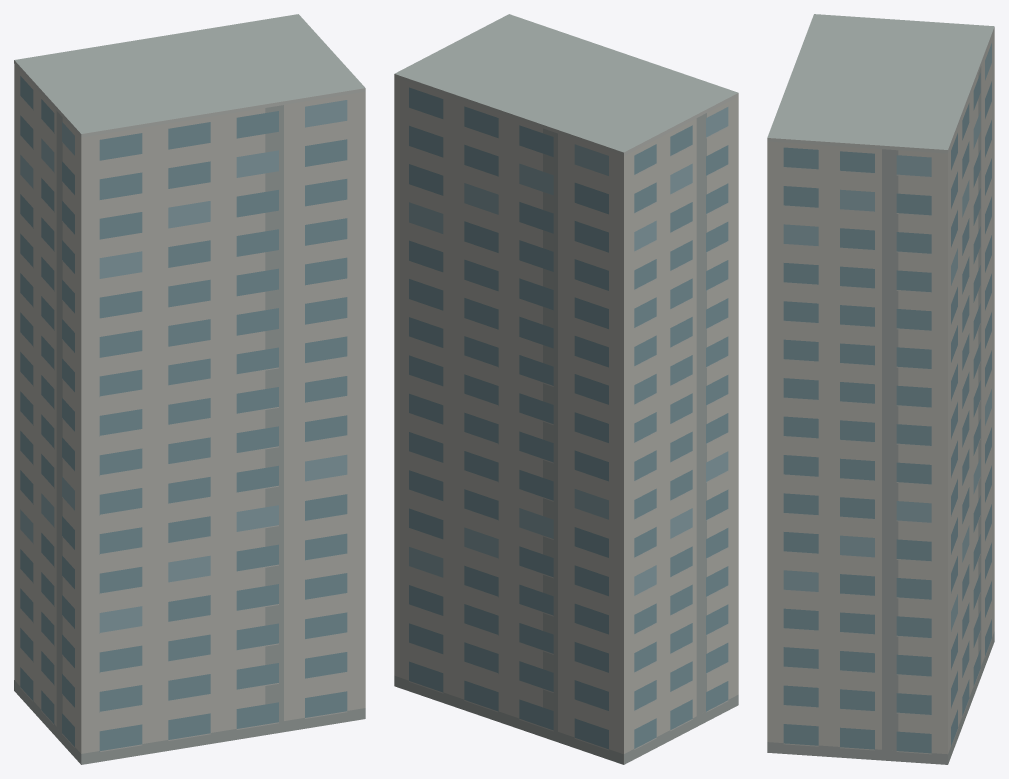
Rendered from residential-116caecb-978e-4a96-8e06-892d996d72b1.glb.
3 views of the same model, side by side, from view 1: azimuth 30°, elevation 25°; view 2: azimuth 150°, elevation 25°; view 3: azimuth 270°, elevation 25° (orthographic). The views are drawn at different scales.
Parts seen in each view (by area): view 1: residential-116caecb-978e-4a96-8e06-892d996d72b1.tmp; view 2: residential-116caecb-978e-4a96-8e06-892d996d72b1.tmp; view 3: residential-116caecb-978e-4a96-8e06-892d996d72b1.tmp.
Boxes of the visible parts, left/top/right/bottom form: residential-116caecb-978e-4a96-8e06-892d996d72b1.tmp: left=14, top=14, right=365, bottom=764; residential-116caecb-978e-4a96-8e06-892d996d72b1.tmp: left=394, top=14, right=738, bottom=764; residential-116caecb-978e-4a96-8e06-892d996d72b1.tmp: left=767, top=14, right=994, bottom=764.
Size of the model in its own units: 19.94 by 42 by 14.09.
